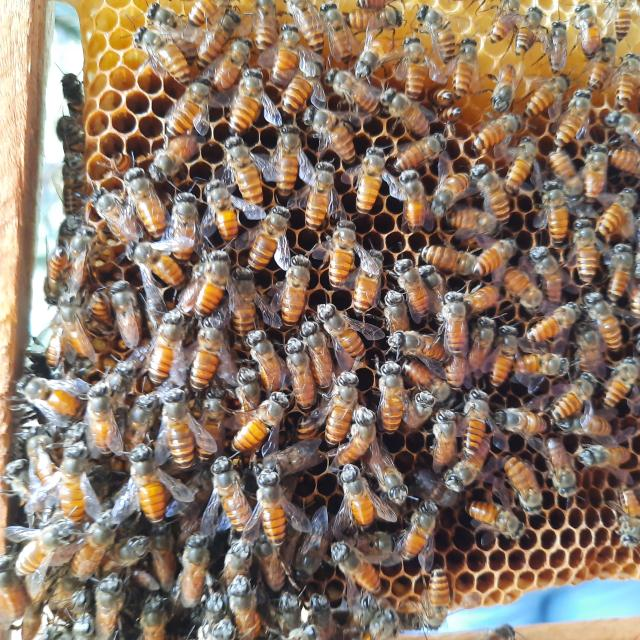honeybee: (256, 449, 327, 548), (201, 64, 274, 133), (200, 458, 271, 522), (466, 316, 527, 390), (334, 515, 400, 583), (124, 233, 200, 291), (327, 456, 392, 523), (117, 396, 186, 456), (463, 492, 528, 551), (220, 577, 292, 628), (72, 398, 138, 453), (214, 151, 245, 266), (19, 452, 82, 508), (129, 158, 172, 235), (376, 252, 431, 312), (85, 180, 134, 245), (373, 85, 438, 134), (278, 347, 327, 411), (595, 288, 640, 355), (7, 519, 71, 566), (169, 185, 213, 253), (426, 210, 502, 249), (143, 0, 201, 50), (402, 566, 480, 603), (523, 295, 583, 343), (306, 109, 358, 164), (481, 161, 523, 229), (313, 301, 369, 352), (396, 510, 464, 552), (155, 85, 214, 133), (243, 207, 290, 267), (172, 530, 228, 579), (320, 219, 362, 284), (372, 360, 410, 430), (27, 257, 81, 306), (140, 592, 200, 636), (298, 150, 340, 212), (499, 454, 551, 504), (513, 250, 575, 291), (163, 407, 207, 464), (131, 34, 179, 85), (459, 229, 510, 277), (561, 213, 597, 281), (492, 330, 529, 396), (23, 372, 76, 418), (296, 587, 359, 625), (555, 421, 586, 496), (556, 95, 598, 150), (369, 594, 419, 640), (221, 134, 260, 192), (115, 278, 152, 338), (467, 112, 517, 156), (369, 456, 425, 495), (152, 138, 212, 174), (246, 328, 289, 378), (351, 151, 383, 217), (499, 130, 536, 186), (548, 368, 590, 417), (393, 315, 444, 355), (200, 319, 233, 379), (363, 26, 402, 76), (200, 12, 238, 63), (534, 179, 566, 239), (132, 458, 180, 498), (136, 333, 187, 370), (275, 120, 302, 188), (301, 322, 337, 373), (450, 56, 485, 108), (324, 68, 369, 108), (355, 143, 386, 201), (231, 411, 289, 442), (312, 10, 348, 59), (273, 25, 320, 62), (601, 365, 640, 408), (275, 70, 319, 108), (426, 14, 460, 63), (606, 60, 638, 111), (605, 182, 640, 228), (481, 12, 513, 62), (84, 574, 134, 606), (520, 78, 558, 120), (603, 132, 639, 176), (402, 39, 430, 95), (564, 86, 588, 150), (401, 171, 431, 222), (433, 165, 467, 208), (602, 238, 630, 290), (596, 440, 630, 482), (465, 410, 495, 453), (494, 63, 522, 108), (433, 414, 463, 456), (612, 489, 640, 534), (108, 542, 152, 568), (582, 157, 606, 204), (75, 519, 112, 548), (193, 277, 238, 299), (514, 8, 537, 51), (573, 21, 600, 57), (402, 145, 448, 165), (402, 389, 433, 418), (607, 0, 629, 38), (244, 6, 270, 36), (496, 425, 537, 443), (551, 19, 566, 62), (66, 621, 105, 633)
